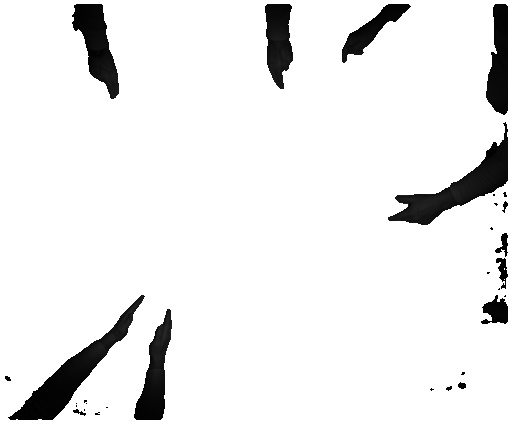hand: (384, 192, 440, 231), (264, 49, 295, 95), (88, 58, 119, 103), (336, 32, 377, 63)
spine: (99, 291, 147, 339), (149, 308, 175, 370)
